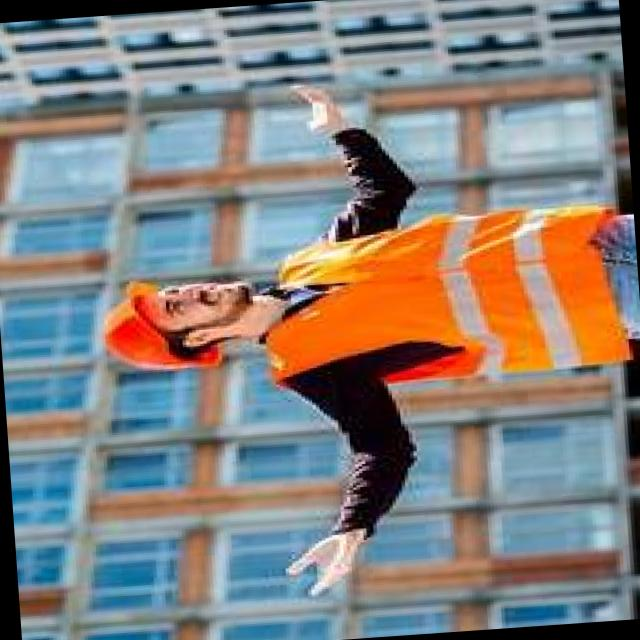gloved: (269, 511, 385, 598), (274, 69, 364, 135)
